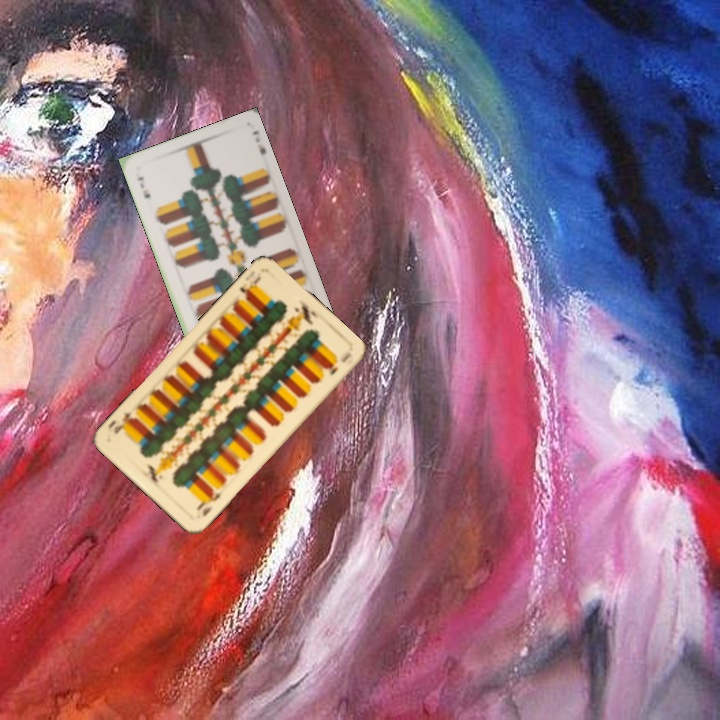E10: (193, 486, 225, 519), (235, 272, 263, 302)
E7: (133, 172, 153, 201)
